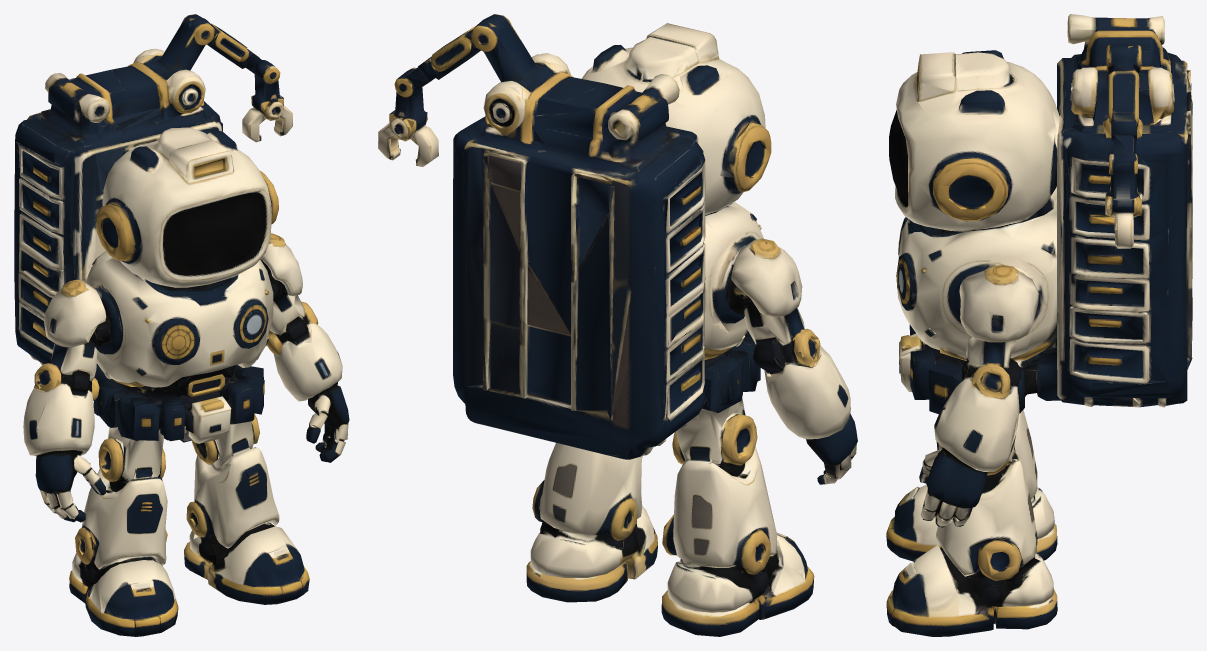
Rendered from fabricator-model-candidate-02.glb.
The picture shows the model from 3 angles, left to right: view 1: azimuth 30°, elevation 25°; view 2: azimuth 150°, elevation 25°; view 3: azimuth 270°, elevation 25°; orthographic projection. The views are drawn at different scales.
Bounding box in the file's own units: 1.35 × 2 × 0.9604.
1 material, 1 textured.
